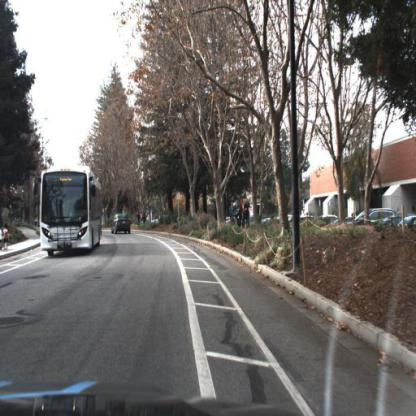car: (111, 215, 130, 237)
pedestrian: (3, 223, 10, 253), (138, 211, 148, 229), (241, 198, 247, 227), (235, 198, 240, 225), (231, 202, 235, 231), (247, 200, 251, 229)
truck: (40, 166, 103, 254)
